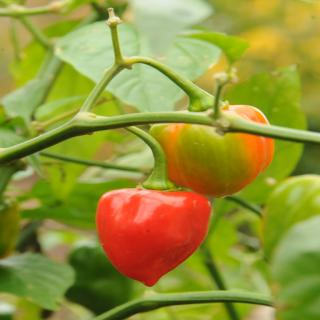tomato: (93, 186, 210, 286), (160, 113, 276, 198)
